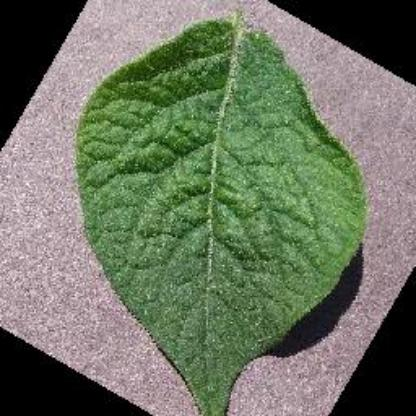Healthy-plant: (56, 3, 381, 415)
